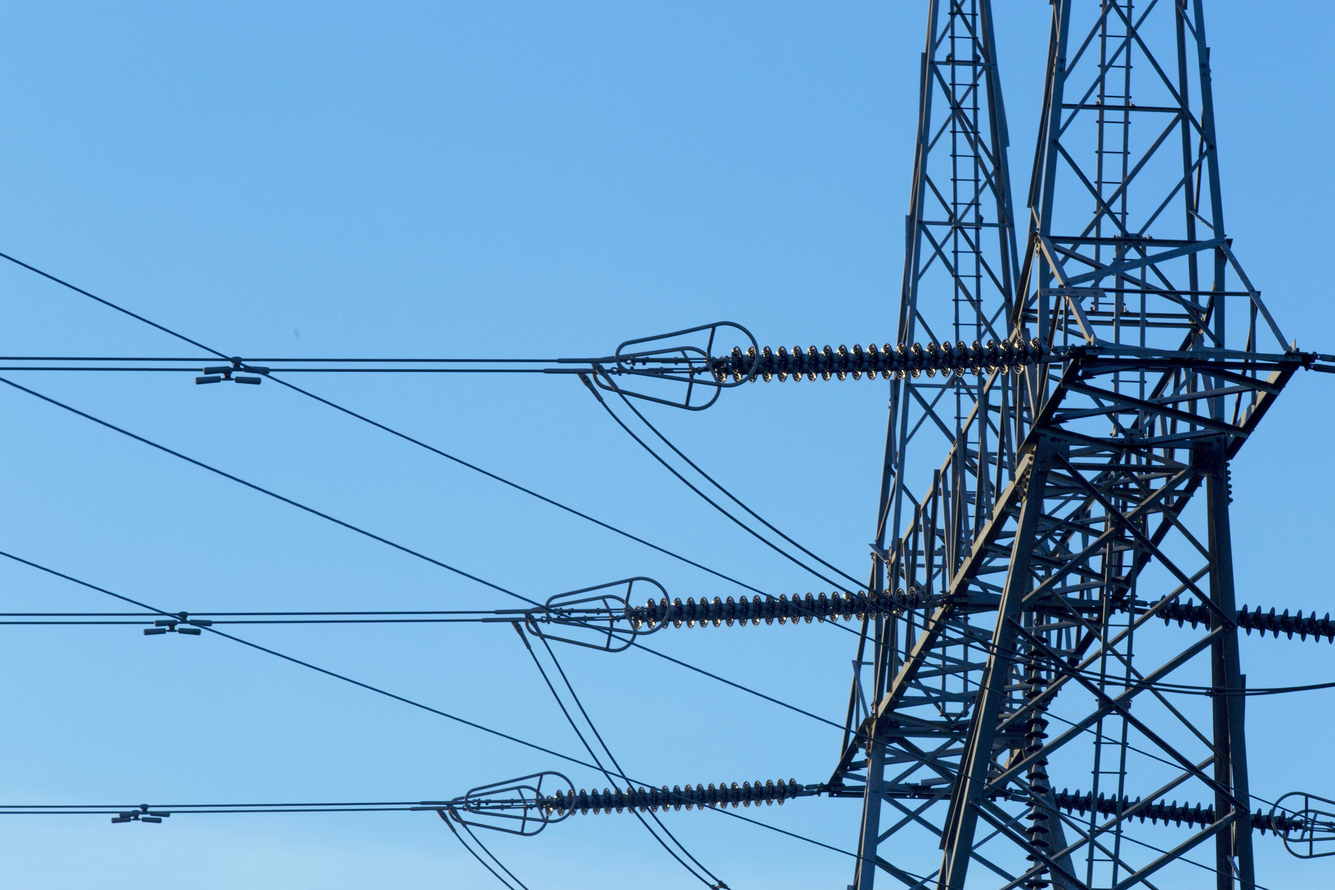power_tower: (545, 1, 1330, 889)
